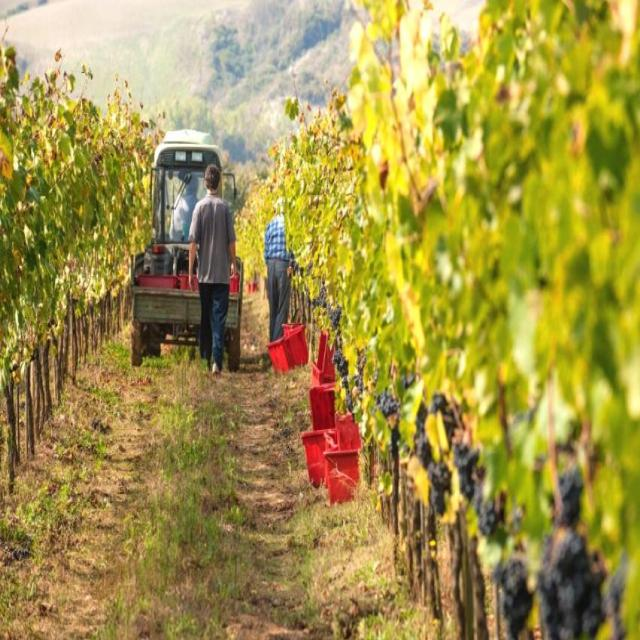row: (0, 276, 433, 640)
